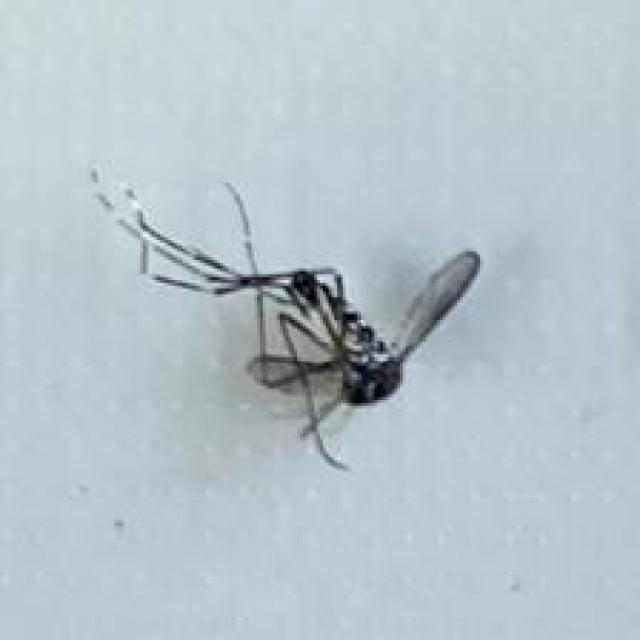Aedes albopictus: (88, 164, 483, 473)
